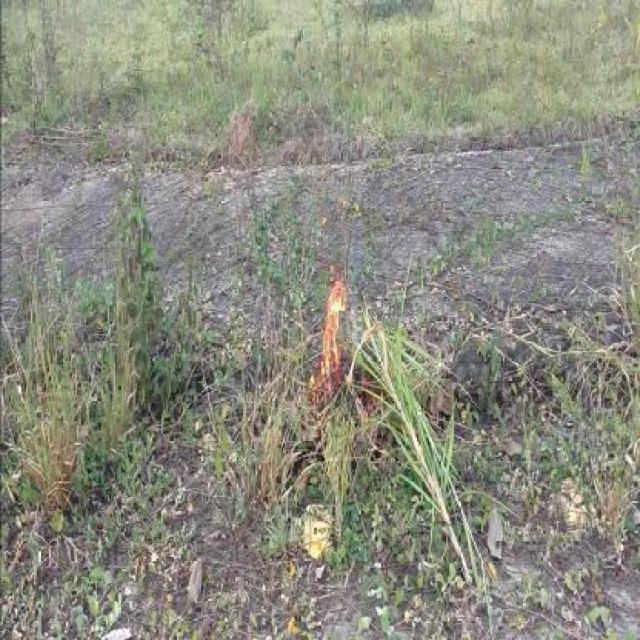Fire: (302, 272, 349, 405)
